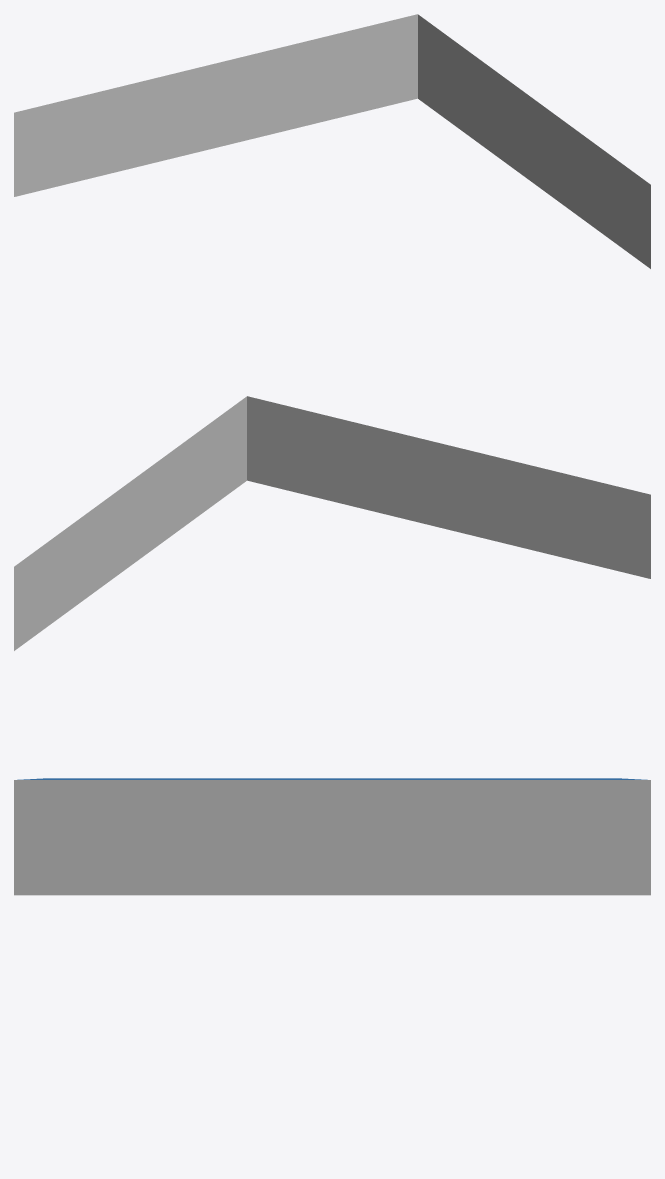
The model's file is ceiling_1x1.glb.
3 renders of one model, top to bottom at view 1: azimuth 30°, elevation 25°; view 2: azimuth 150°, elevation 25°; view 3: azimuth 270°, elevation 25°, orthographic. The views are drawn at different scales.
Parts seen in each view (by area): view 1: Ceiling_1x1-col; view 2: Ceiling_1x1-col; view 3: Ceiling_1x1-col.
Boxes of the visible parts, bbox=[...] form: Ceiling_1x1-col: bbox=[14, 14, 650, 268]; Ceiling_1x1-col: bbox=[14, 396, 650, 650]; Ceiling_1x1-col: bbox=[14, 778, 650, 895].
Bounding box in the file's own units: 20 × 4.53 × 20.
